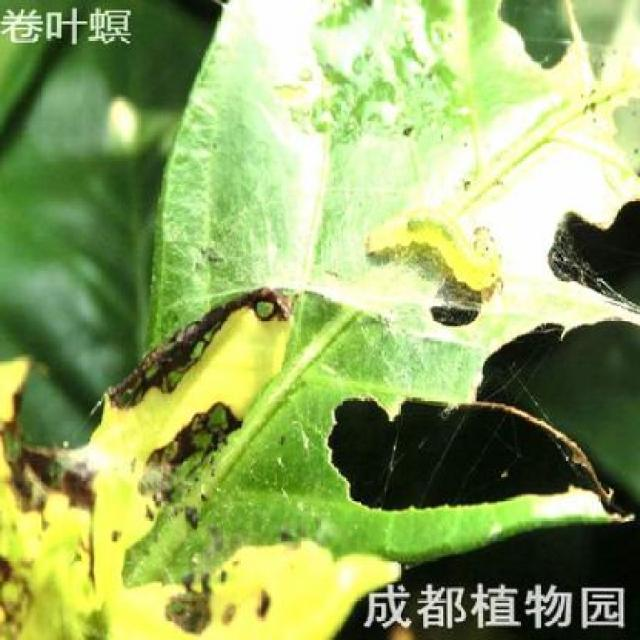leaf-folder: (360, 189, 509, 303)
